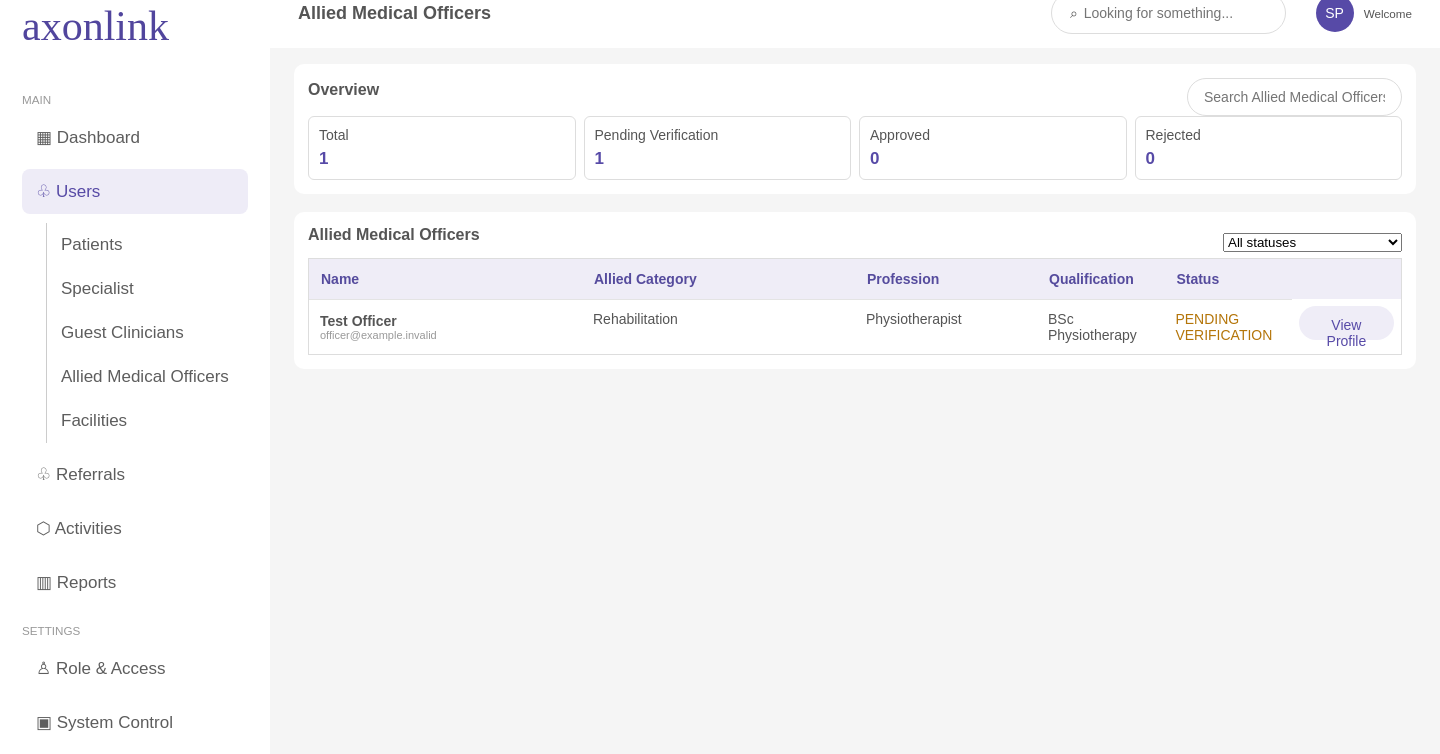
Test: requires rejection reason and reloads reviewed credentials
The width and height of the screenshot is (1440, 754).
Click the button "View Profile".
click(1346, 323)  # box x1=1299 y1=306 x2=1394 y2=340
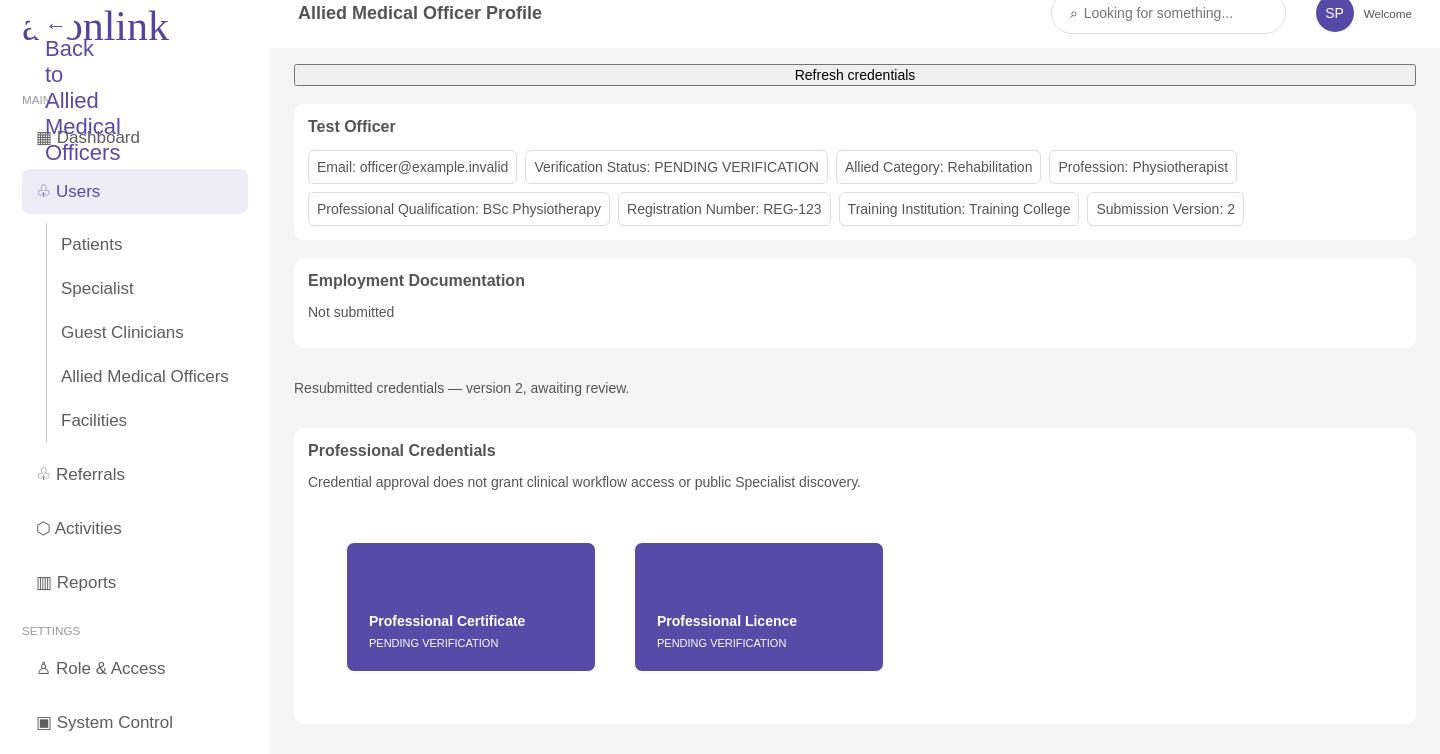
expect the text "Professional Qualification: BSc Physiotherapy" is shown: met, box x1=308 y1=192 x2=610 y2=226
Click the button "Professional Certificate PENDING VERIFICATION".
click(471, 607)  # box x1=346 y1=542 x2=596 y2=672
(page scrolled)
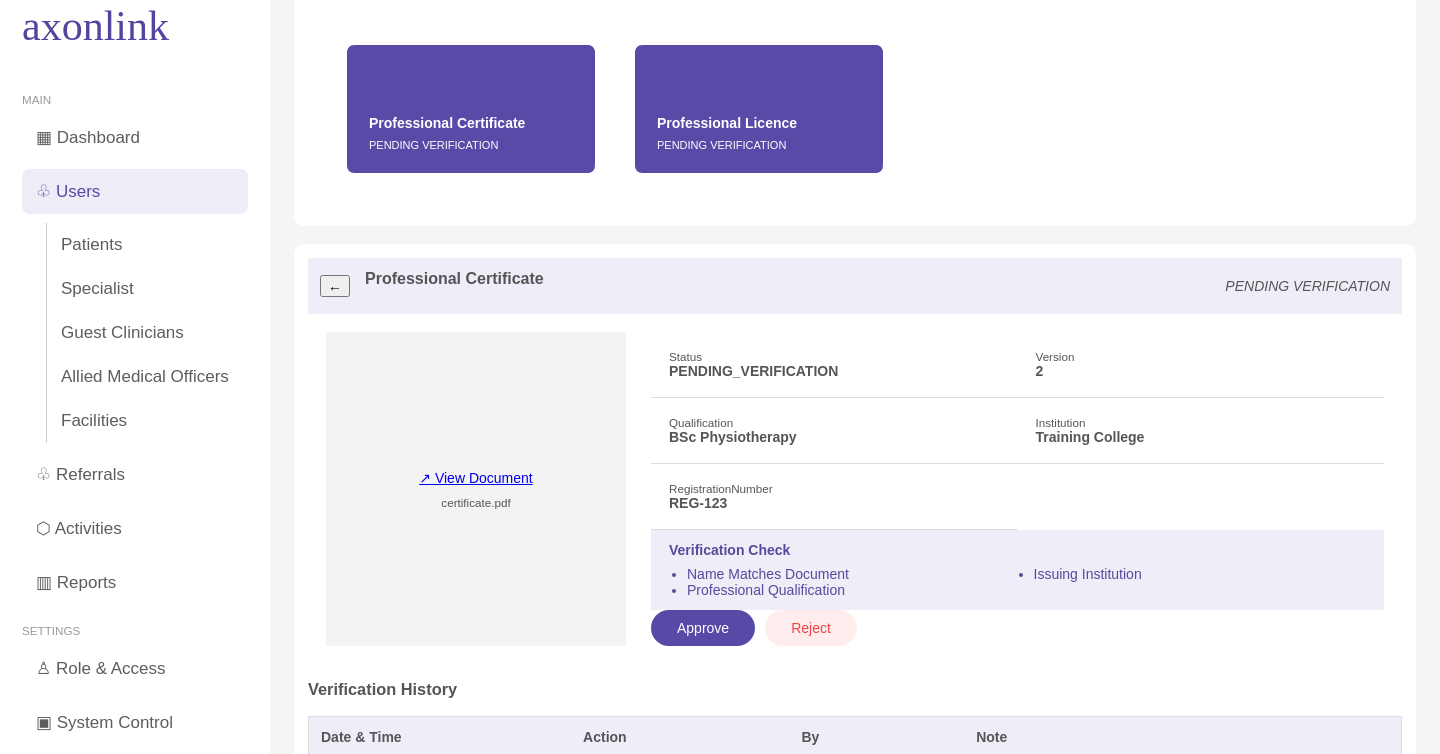
Click the button "Reject".
click(811, 628)  # box x1=765 y1=610 x2=857 y2=646
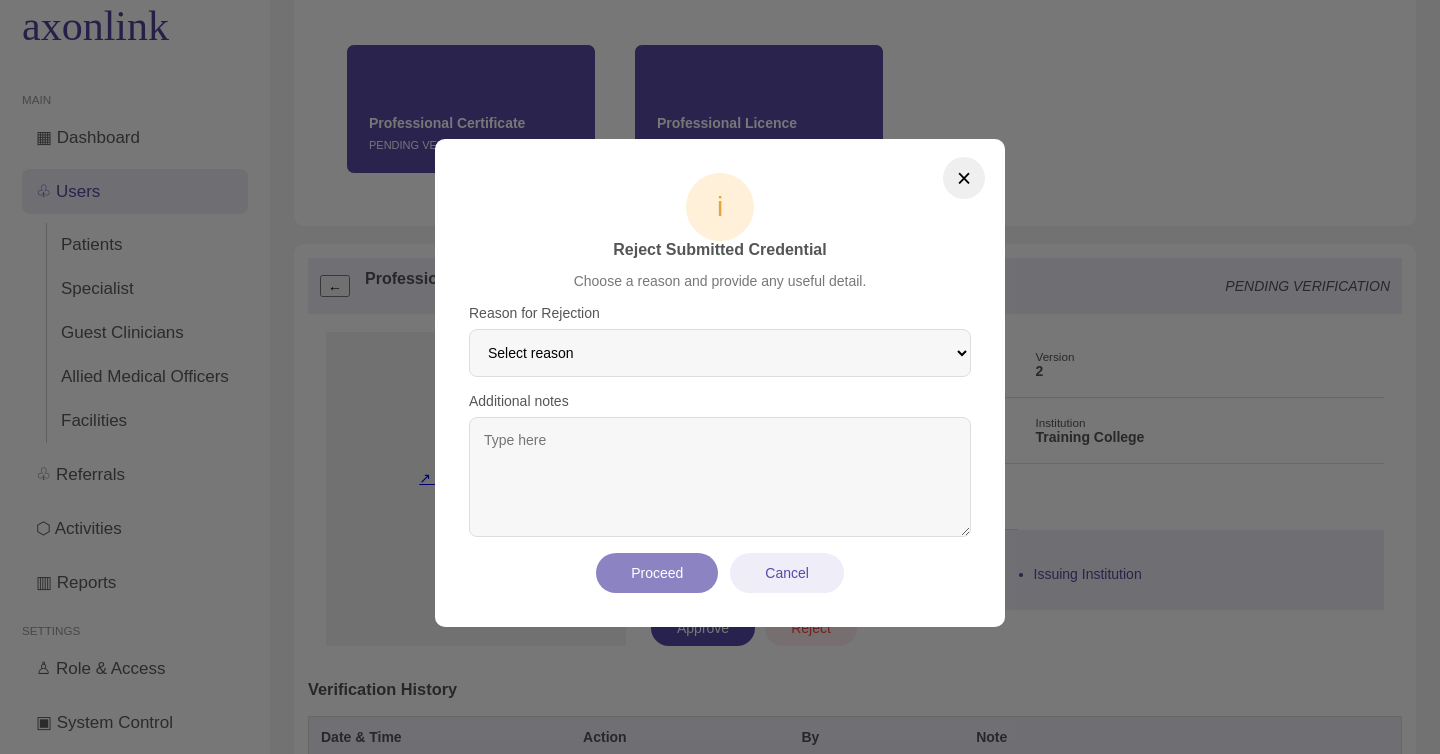
expect the button "Proceed" is disabled: met, box x1=596 y1=553 x2=718 y2=593
Select "Certificate is unreadable" in the dropdown at (720, 353), box x1=469 y1=329 x2=971 y2=377
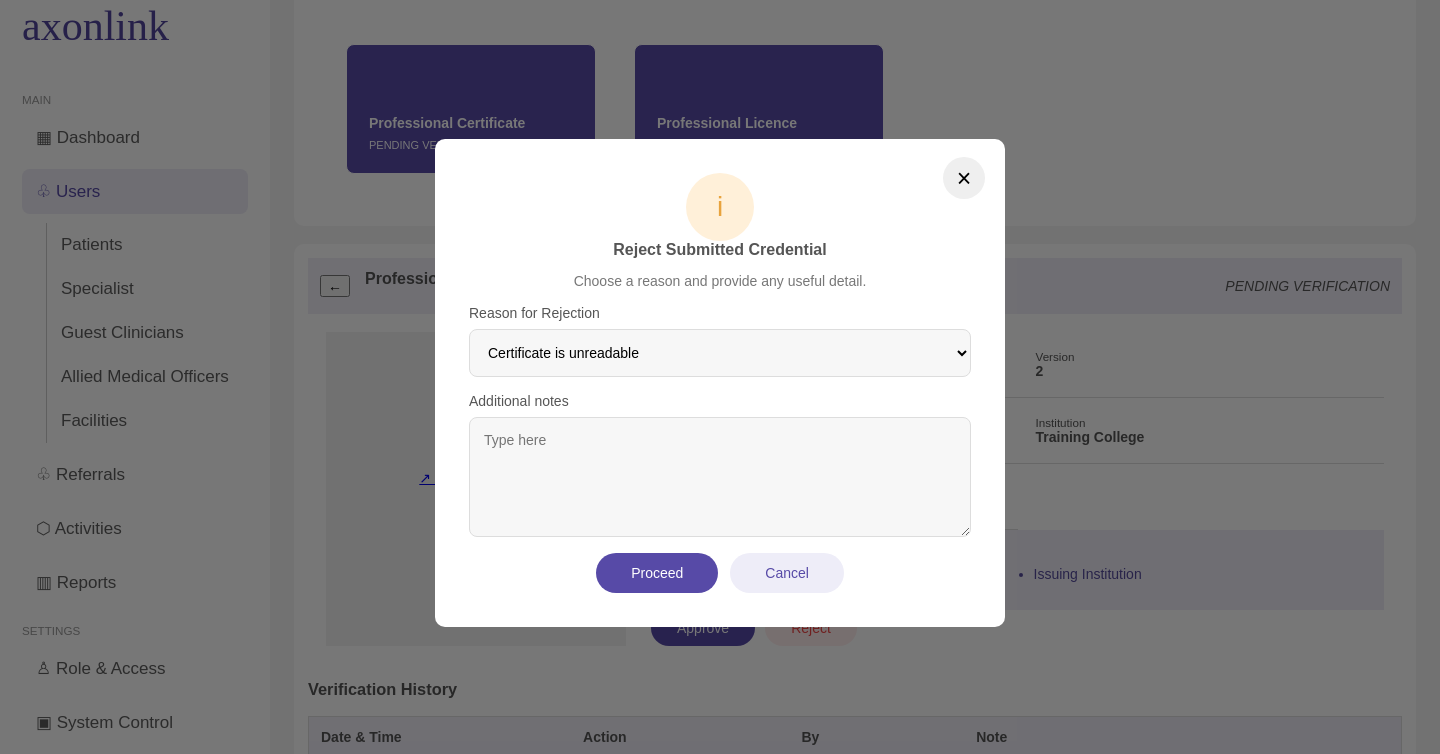
Click the button "Proceed".
click(657, 573)  # box x1=596 y1=553 x2=718 y2=593
(page scrolled)
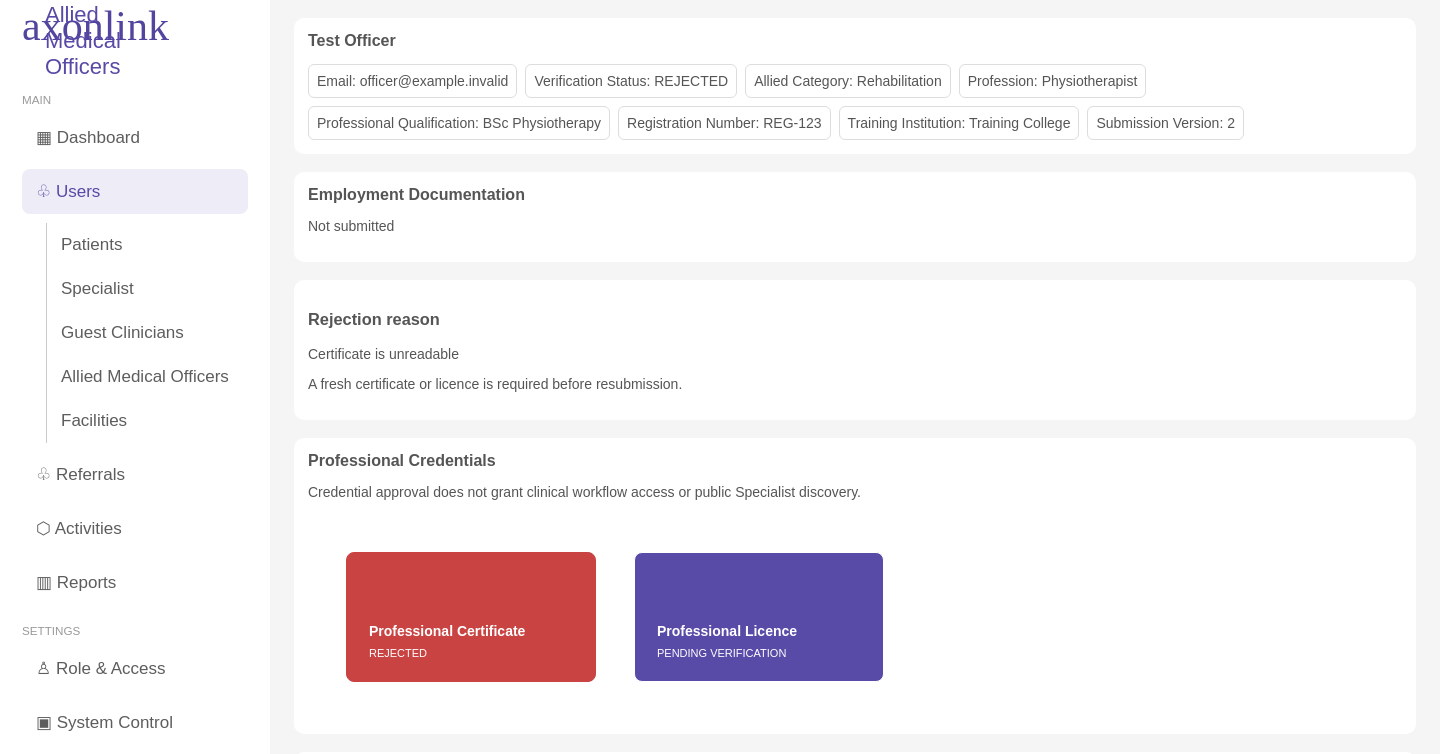
expect the text "A fresh certificate or licence is required before resubmission." is shown: met, box x1=308 y1=376 x2=682 y2=392
expect the button "Approve" is gone: met
